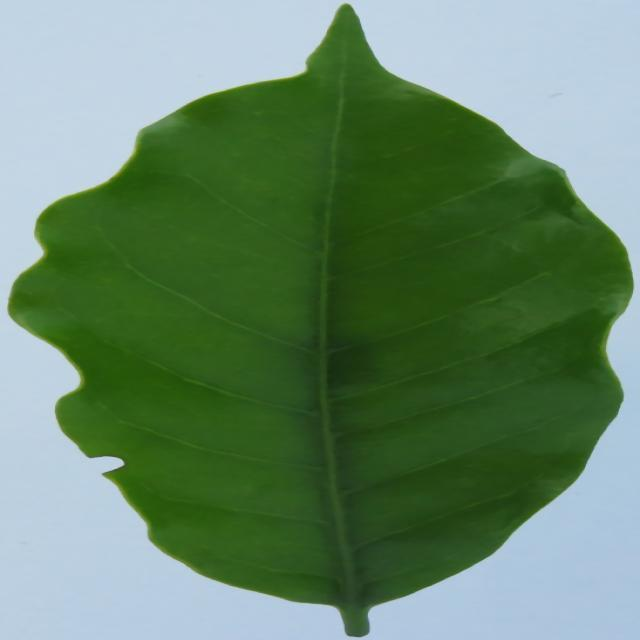DeficienciaNutricional-Calcio: (11, 5, 630, 636)
